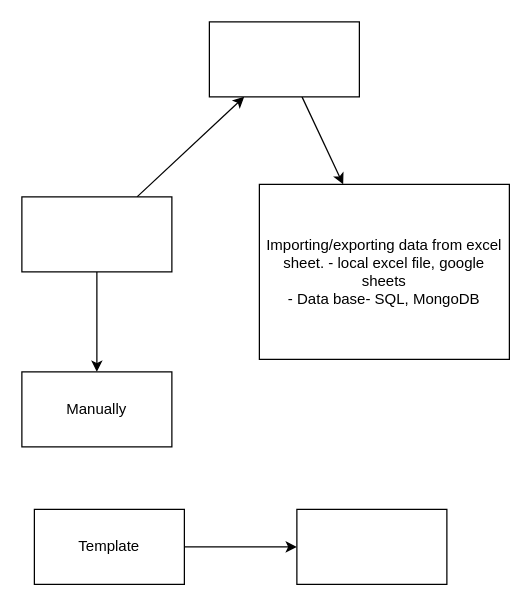
This 531x606 diagram has some shape labels left out. Here are the shapes that lost their labels. From the top down, the centre of each, then its label:
pixel 283 59: Database
pixel 96 234: Add email
